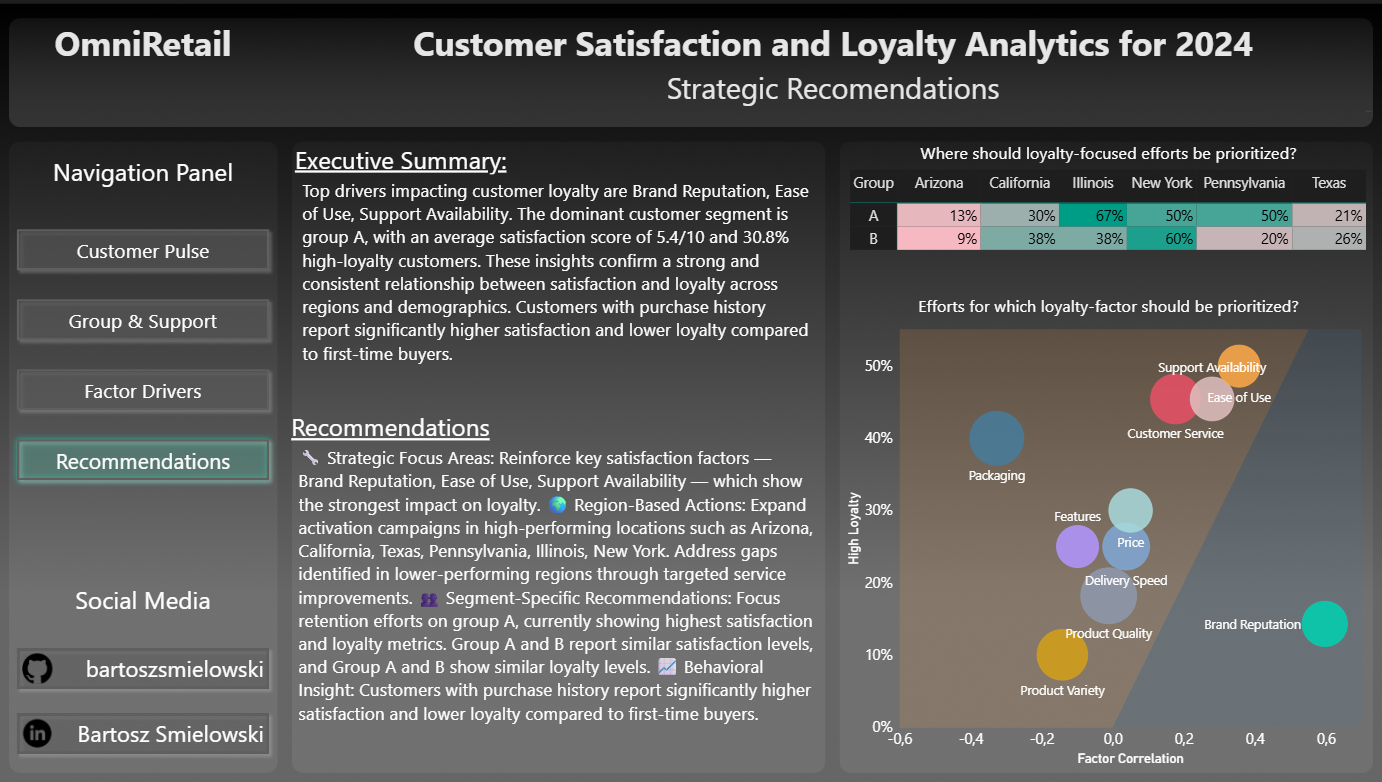

What the dashboard file says about the page in this screenshot:
{"tool":"powerbi","page":{"name":"StrategicRecommendations","canvas":[1920,1080],"ordinal":3},"visuals":[{"type":"textbox","title":"Customer Satisfaction and Loyalty Analytics for 2024","box":[407.8,0,1493.9,133.4],"z":0},{"type":"textbox","title":"OmniRetail","box":[17.1,0,373.5,133.4],"z":1000},{"type":"actionButton","box":[17.1,947,373.5,74.3],"z":2000},{"type":"actionButton","box":[17.1,857.5,373.5,74.3],"z":3000},{"type":"textbox","title":"Navigation Panel","box":[17.1,188.6,373.5,49.5],"z":4000},{"type":"actionButton","box":[17.1,280.1,373.5,74.3],"z":5000},{"type":"actionButton","box":[17.1,377.3,373.5,74.3],"z":6000},{"type":"actionButton","box":[17.1,474.5,373.5,74.3],"z":7000},{"type":"textbox","title":"Social Media","box":[17.1,777.4,373.5,49.5],"z":8000},{"type":"actionButton","box":[17.1,569.7,373.5,74.3],"z":9000},{"type":"shape","title":"Executive Summary:","box":[407.8,165.8,733.6,327.7],"z":10000},{"type":"shape","title":"Recommendations","box":[407.8,539.2,733.6,495.4],"z":11000},{"type":"pivotTable","title":"Where should loyalty-focused efforts be prioritized?","fields":{"Rows":["Dim_Customer.Group"],"Columns":["Dim_Location.State"],"Values":["# Measures.% HighLoyalty"]},"box":[1168,165.8,733.6,163.9],"z":12000},{"type":"scatterChart","title":"Efforts for which loyalty-factor should be prioritized?","fields":{"X":["# Measures.# Factor_Correlation_WithFallback"],"Y":["# Measures.% HighLoyalty"],"Series":["Dim_Satisfaction.Satisfaction_Factor"],"Size":["# Measures.# AvgSatisfaction"]},"box":[1168,377.3,733.6,657.4],"z":13000}]}

Visuals, with their boxes in screenshot pixels (x1, y1, x2, y2), scaled from the page's 1920x1080 canvas onto the 1382x782 screenshot:
"Customer Satisfaction and Loyalty Analytics for 2024" textbox: l=294, t=0, r=1369, b=97
"OmniRetail" textbox: l=12, t=0, r=281, b=97
actionButton: l=12, t=686, r=281, b=739
actionButton: l=12, t=621, r=281, b=675
"Navigation Panel" textbox: l=12, t=137, r=281, b=172
actionButton: l=12, t=203, r=281, b=257
actionButton: l=12, t=273, r=281, b=327
actionButton: l=12, t=344, r=281, b=397
"Social Media" textbox: l=12, t=563, r=281, b=599
actionButton: l=12, t=413, r=281, b=466
"Executive Summary:" shape: l=294, t=120, r=822, b=357
"Recommendations" shape: l=294, t=390, r=822, b=749
"Where should loyalty-focused efforts be prioritized?" pivotTable: l=841, t=120, r=1369, b=239
"Efforts for which loyalty-factor should be prioritized?" scatterChart: l=841, t=273, r=1369, b=749
